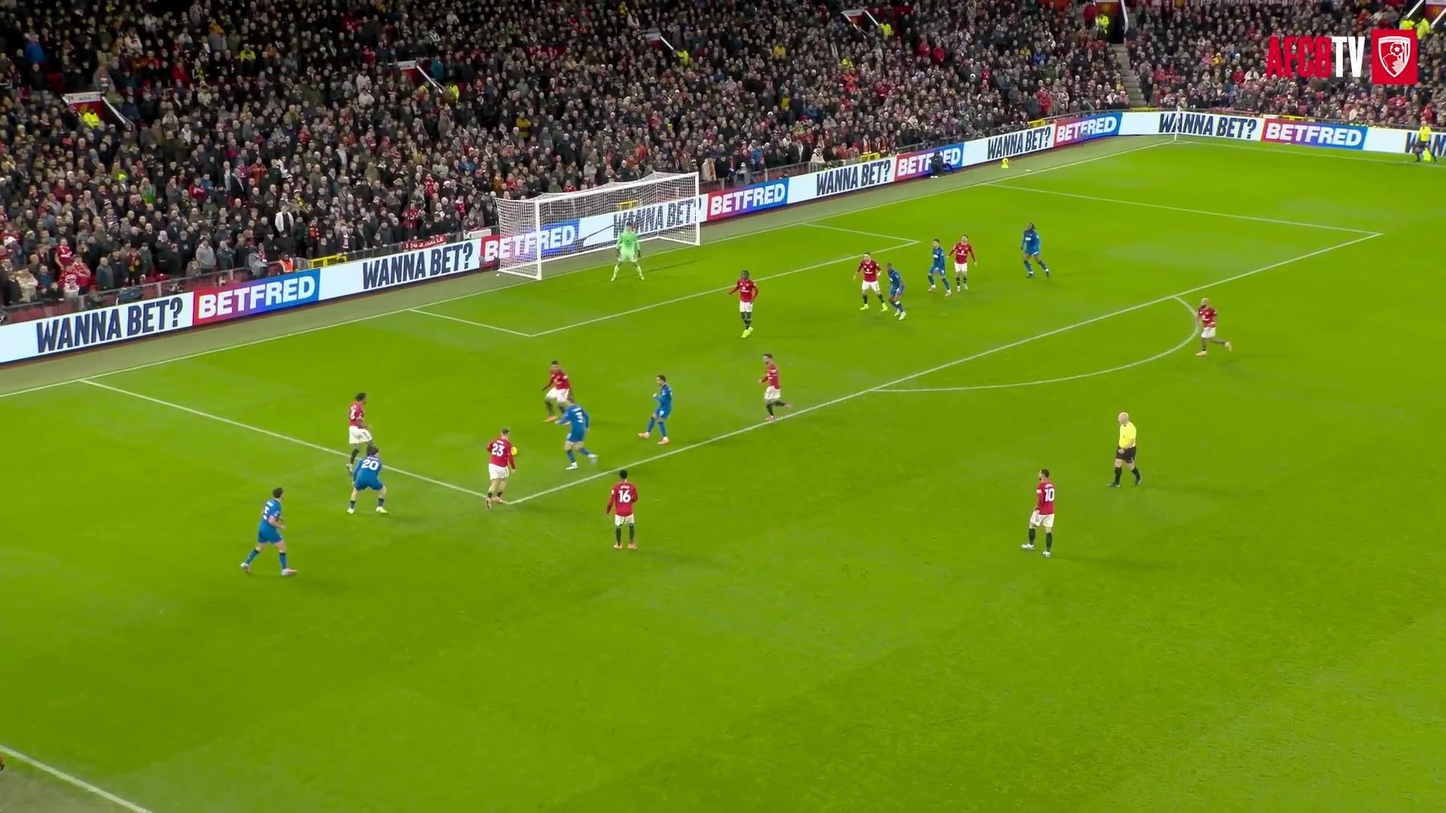player: (240, 487, 296, 576), (1021, 469, 1054, 556), (557, 397, 596, 470), (347, 446, 387, 513), (606, 470, 638, 549), (484, 428, 515, 507), (639, 375, 672, 444), (760, 354, 791, 421), (1196, 298, 1232, 355), (854, 253, 889, 311), (728, 270, 758, 337), (347, 393, 372, 471), (612, 223, 644, 281), (1021, 222, 1049, 277), (545, 361, 569, 422), (950, 235, 976, 289), (928, 239, 952, 296), (886, 263, 905, 319)
referee: (1110, 412, 1140, 486), (1409, 122, 1442, 168)
